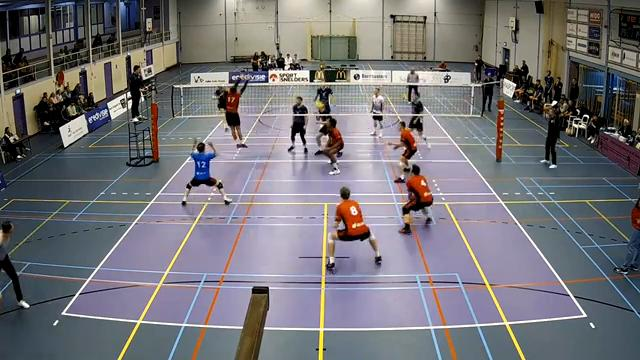attacco: (211, 83, 233, 135)
muro: (220, 72, 253, 151)
